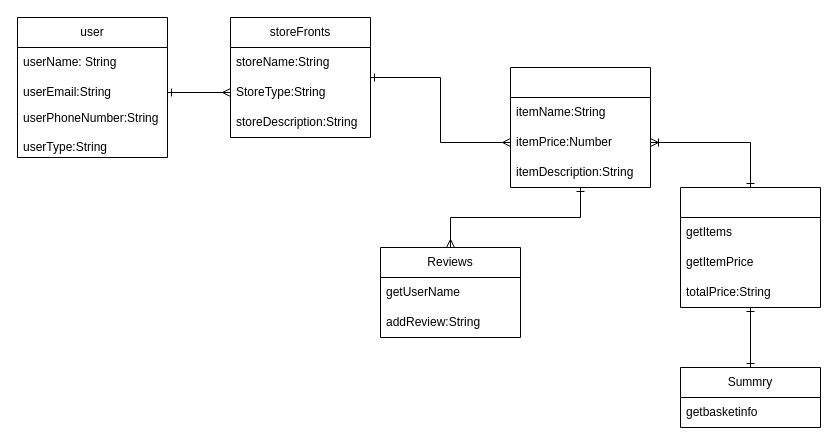
Some shapes in this 838 by 445 pixel diagram are drawn without their labels. The box of each missing label's shape, as (x1, y1, x2, y2) in pixels:
Basket: (680, 186, 820, 308)
Items: (510, 66, 650, 188)
